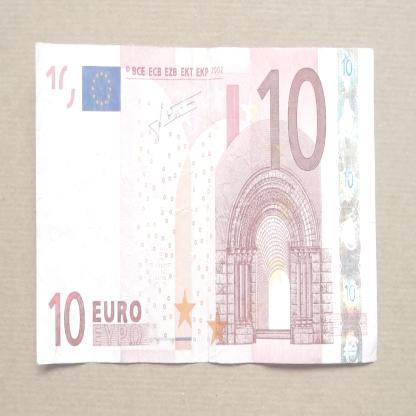euro_banknote: (37, 43, 379, 366)
